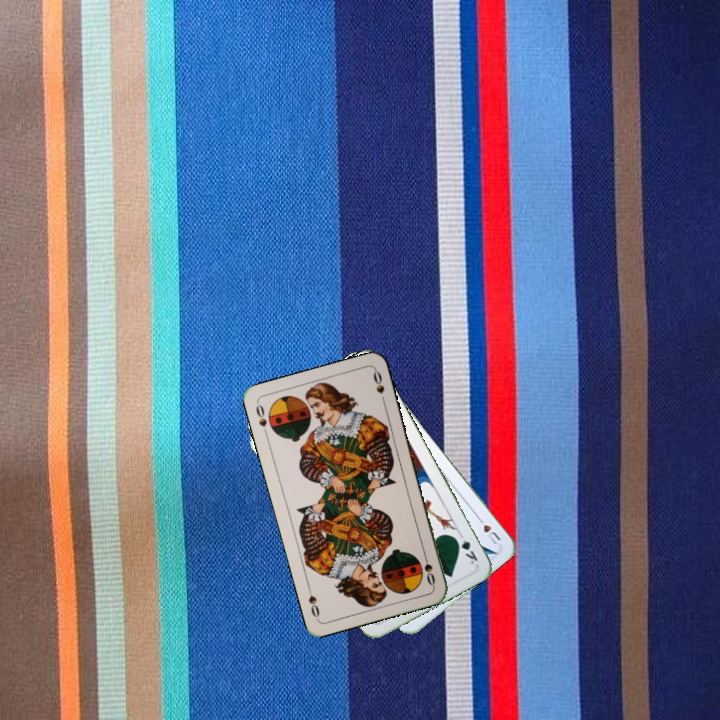GK: (450, 529, 480, 567)
HU: (473, 512, 503, 548)
SO: (419, 549, 438, 589), (252, 400, 271, 439)
